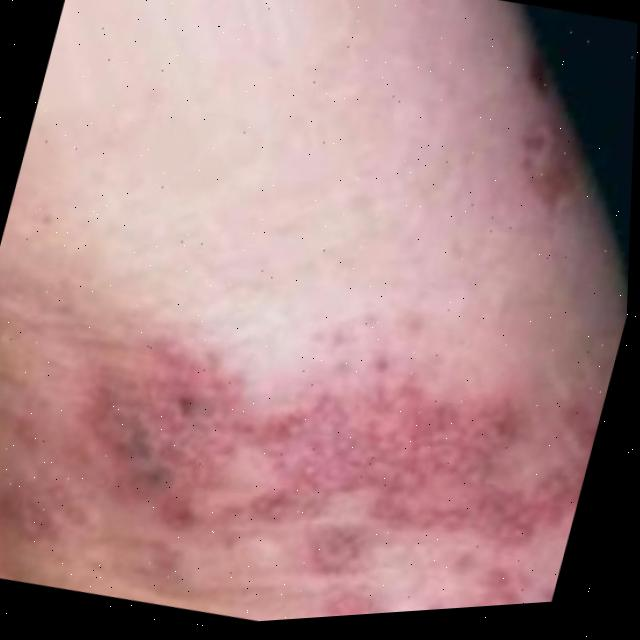Shingles: (42, 295, 606, 636)
